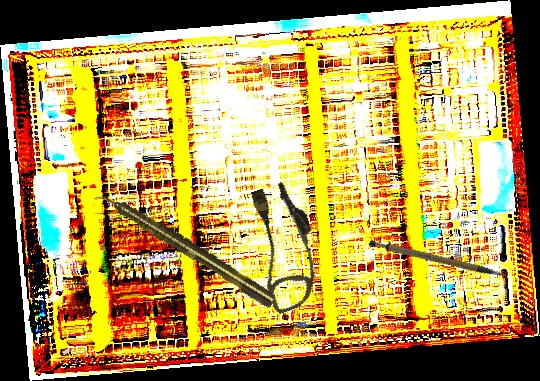Cannula: (235, 177, 335, 316)
Handpiece: (92, 184, 279, 311)
Scalpel Handle: (367, 222, 507, 299)
